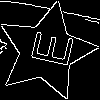E: (21, 26, 74, 69)
